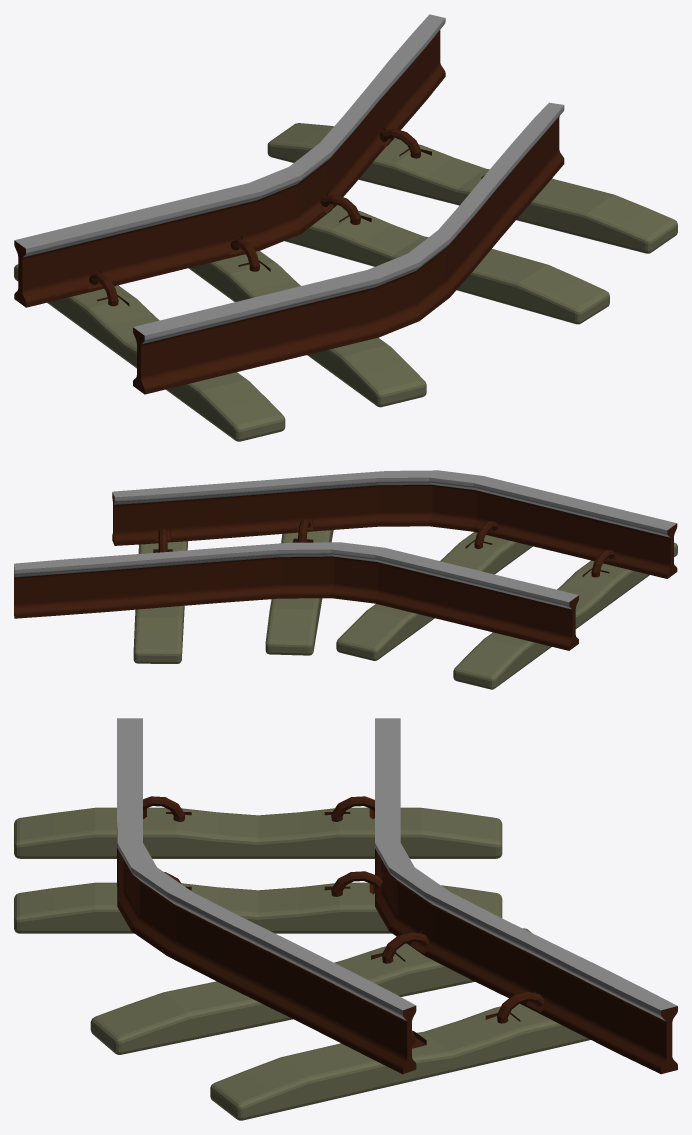
File: ray_tas_egimli.fbx
The picture shows the model from 3 angles, top to bottom: view 1: azimuth 30°, elevation 25°; view 2: azimuth 150°, elevation 25°; view 3: azimuth 270°, elevation 25°; orthographic projection. The views are drawn at different scales.
Visible parts, largest first — view 1: Cube.001, Cube.002, Cube.006, Cube.005, Cube.003, Cube.004; view 2: Cube.002, Cube.001, Cube.003, Cube.004, Cube.005, Cube.006; view 3: Cube.001, Cube.002, Cube.003, Cube.006, Cube.004, Cube.005.
Boxes of the visible parts, <box> form: Cube.001: <box>133,102,564,394</box>; Cube.002: <box>14,14,445,307</box>; Cube.006: <box>267,123,677,253</box>; Cube.005: <box>284,193,609,324</box>; Cube.003: <box>14,264,285,441</box>; Cube.004: <box>188,235,426,407</box>; Cube.002: <box>14,542,578,650</box>; Cube.001: <box>112,470,677,578</box>; Cube.003: <box>453,542,677,689</box>; Cube.004: <box>336,520,532,660</box>; Cube.005: <box>265,516,333,655</box>; Cube.006: <box>133,528,188,663</box>; Cube.001: <box>117,718,416,1074</box>; Cube.002: <box>375,718,677,1074</box>; Cube.003: <box>14,796,502,858</box>; Cube.006: <box>210,991,590,1120</box>; Cube.004: <box>14,871,502,933</box>; Cube.005: <box>90,928,531,1054</box>.
Size of the model in its own units: 748 by 103 by 672.
